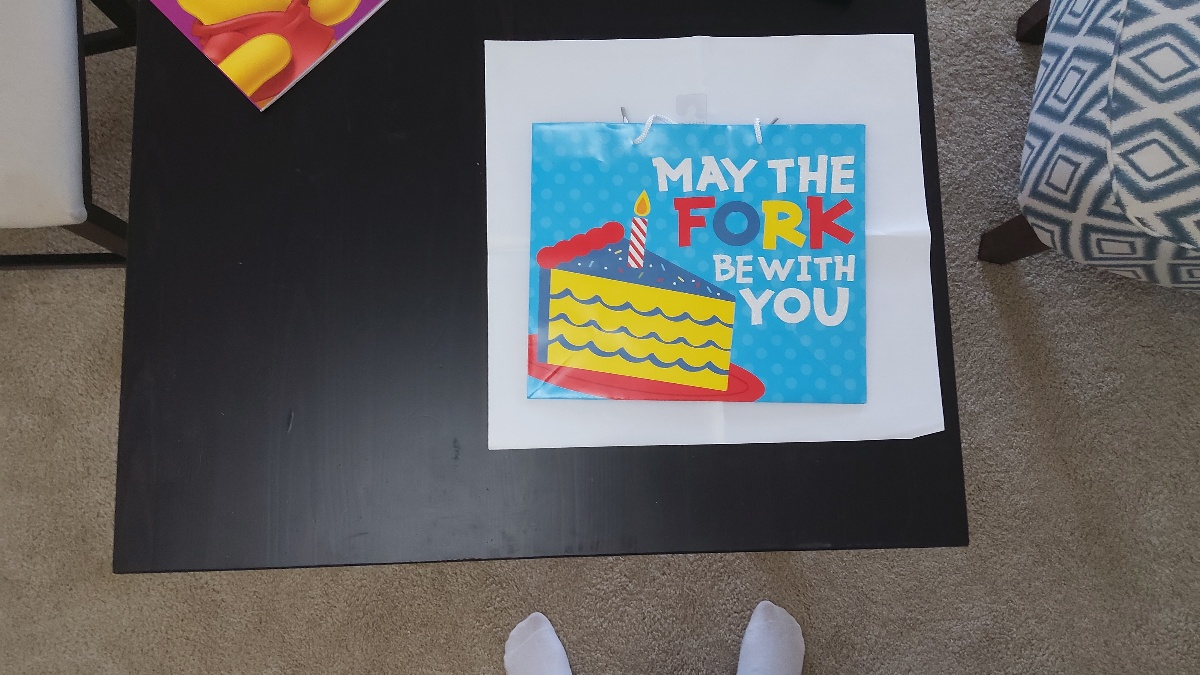paper_bag: (533, 124, 864, 404)
